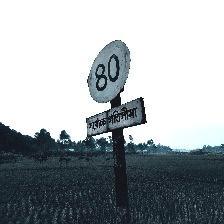Speed-limit: (85, 39, 146, 138)
